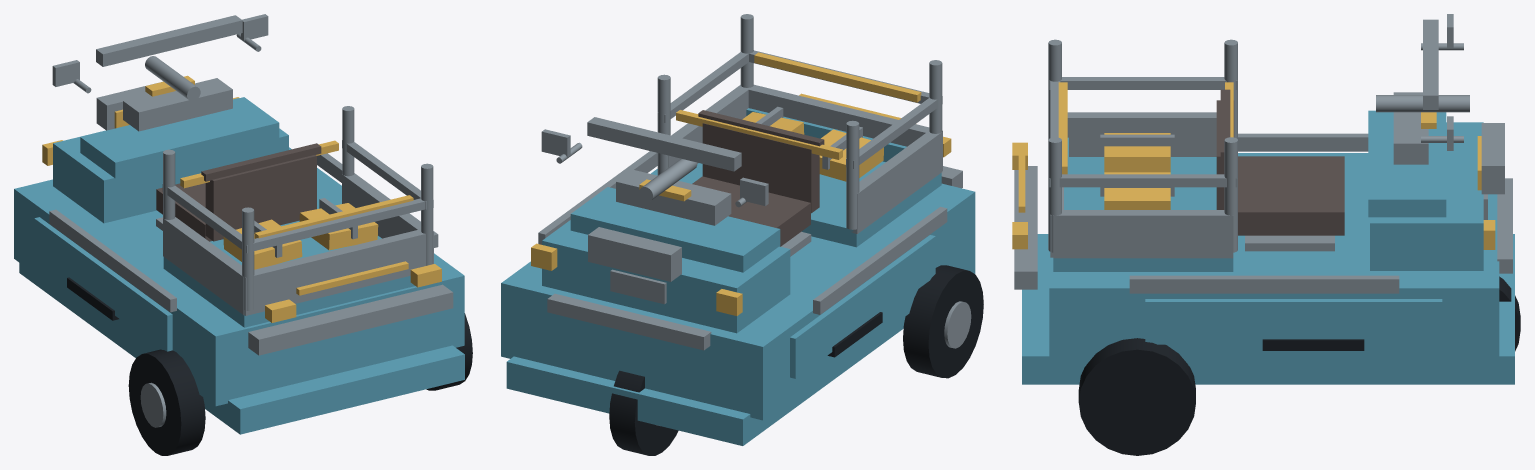
File: three_wheel_delivery_final_candidate.glb
3 views of the same model, side by side, from view 1: azimuth 30°, elevation 25°; view 2: azimuth 150°, elevation 25°; view 3: azimuth 270°, elevation 25° (orthographic). The views are drawn at different scales.
Visible parts, largest first — view 1: 候选三轮车车体, 候选三轮车底盘, 候选三轮车前饰条, 候选三轮车前挡板, 候选三轮车货斗后栏, 候选三轮车靠背, 候选三轮车左侧裙, 候选三轮车左后轮胎, 候选三轮车后保险杠, 候选三轮车货斗左栏, 候选三轮车货斗底板, 候选三轮车仪表台 (+27 smaller); view 2: 候选三轮车车体, 候选三轮车前挡板, 候选三轮车底盘, 候选三轮车前饰条, 候选三轮车左侧裙, 候选三轮车左后轮胎, 候选三轮车靠背, 候选三轮车货斗左栏, 候选三轮车货斗底板, 候选三轮车货斗后栏, 候选三轮车前灯外壳, 候选三轮车前保险杠 (+28 smaller); view 3: 候选三轮车车体, 候选三轮车右侧裙, 候选三轮车底盘, 候选三轮车右后轮胎, 候选三轮车前挡板, 候选三轮车货斗右栏, 候选三轮车座椅, 候选三轮车前饰条, 候选三轮车货斗底板, 候选三轮车右侧防护条, 候选三轮车货斗左栏, 候选三轮车左侧防护条 (+23 smaller).
Boxes of the visible parts, bbox=[...] form: 候选三轮车车体: bbox=[14, 147, 464, 406]; 候选三轮车底盘: bbox=[19, 263, 464, 434]; 候选三轮车前饰条: bbox=[80, 97, 279, 178]; 候选三轮车前挡板: bbox=[53, 98, 288, 223]; 候选三轮车货斗后栏: bbox=[244, 230, 433, 315]; 候选三轮车靠背: bbox=[205, 155, 316, 241]; 候选三轮车左侧裙: bbox=[34, 217, 172, 351]; 候选三轮车左后轮胎: bbox=[128, 349, 205, 455]; 候选三轮车后保险杠: bbox=[248, 284, 453, 355]; 候选三轮车货斗左栏: bbox=[163, 217, 244, 315]; 候选三轮车货斗底板: bbox=[163, 220, 414, 327]; 候选三轮车仪表台: bbox=[123, 78, 232, 131]; 候选三轮车车体: bbox=[501, 169, 975, 420]; 候选三轮车前挡板: bbox=[542, 220, 790, 333]; 候选三轮车底盘: bbox=[506, 265, 975, 445]; 候选三轮车前饰条: bbox=[570, 187, 780, 272]; 候选三轮车左侧裙: bbox=[790, 235, 935, 378]; 候选三轮车左后轮胎: bbox=[903, 265, 983, 378]; 候选三轮车靠背: bbox=[702, 123, 819, 213]; 候选三轮车货斗左栏: bbox=[846, 131, 942, 233]; 候选三轮车货斗底板: bbox=[679, 161, 941, 247]; 候选三轮车货斗后栏: bbox=[741, 84, 942, 170]; 候选三轮车前灯外壳: bbox=[588, 227, 681, 281]; 候选三轮车前保险杠: bbox=[547, 293, 711, 350]; 候选三轮车车体: bbox=[1049, 153, 1499, 366]; 候选三轮车右侧裙: bbox=[1145, 299, 1442, 344]; 候选三轮车底盘: bbox=[1022, 234, 1514, 384]; 候选三轮车右后轮胎: bbox=[1078, 338, 1195, 455]; 候选三轮车前挡板: bbox=[1370, 122, 1483, 270]; 候选三轮车货斗右栏: bbox=[1053, 210, 1233, 258]; 候选三轮车座椅: bbox=[1238, 156, 1344, 235]; 候选三轮车前饰条: bbox=[1368, 110, 1446, 217]; 候选三轮车货斗底板: bbox=[1053, 157, 1233, 271]; 候选三轮车右侧防护条: bbox=[1129, 275, 1399, 293]; 候选三轮车货斗左栏: bbox=[1067, 112, 1216, 156]; 候选三轮车左侧防护条: bbox=[1238, 133, 1368, 151].
Bounding box in the file's own units: 1.94 × 1.8 × 2.6.
